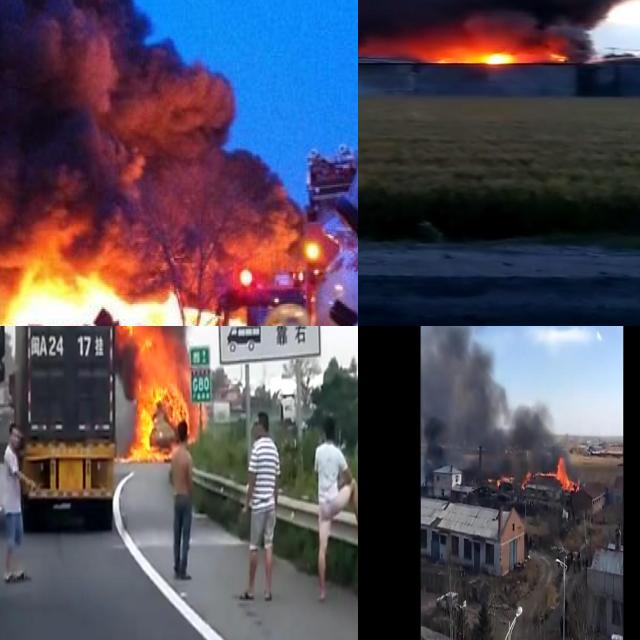fire: (0, 248, 244, 326), (117, 326, 194, 462), (416, 36, 574, 67), (518, 454, 578, 486), (554, 457, 576, 490)
smoke: (0, 0, 302, 282), (421, 326, 506, 462), (508, 400, 552, 462)
